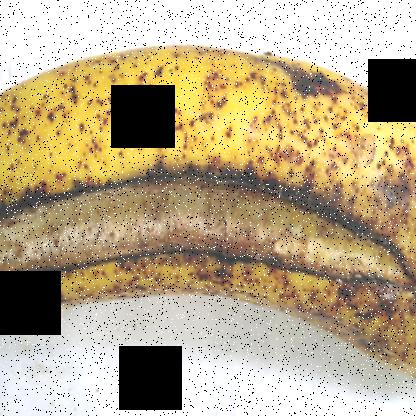rotten: (0, 140, 414, 344)
